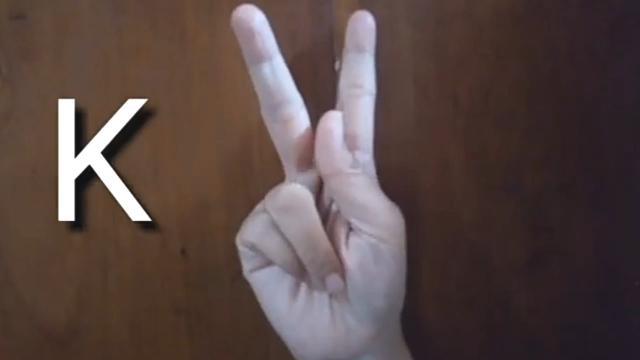K: (228, 2, 417, 360)
